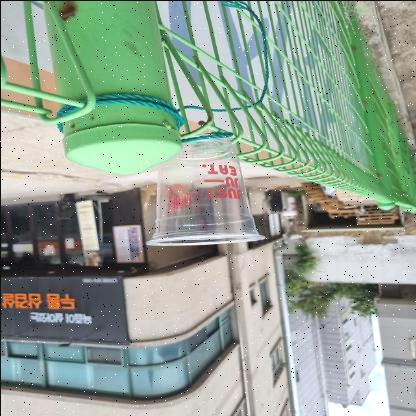Others: (136, 136, 268, 246)
